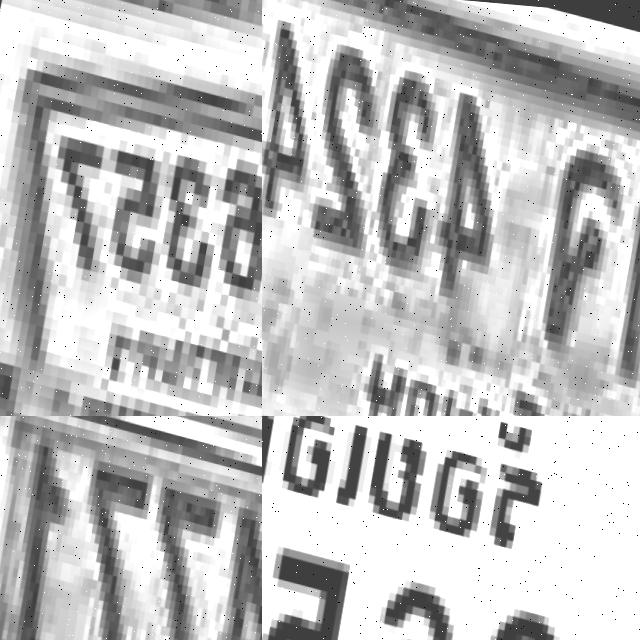license-plate: (262, 0, 640, 416), (0, 0, 262, 416), (262, 416, 640, 640), (0, 416, 262, 640)
